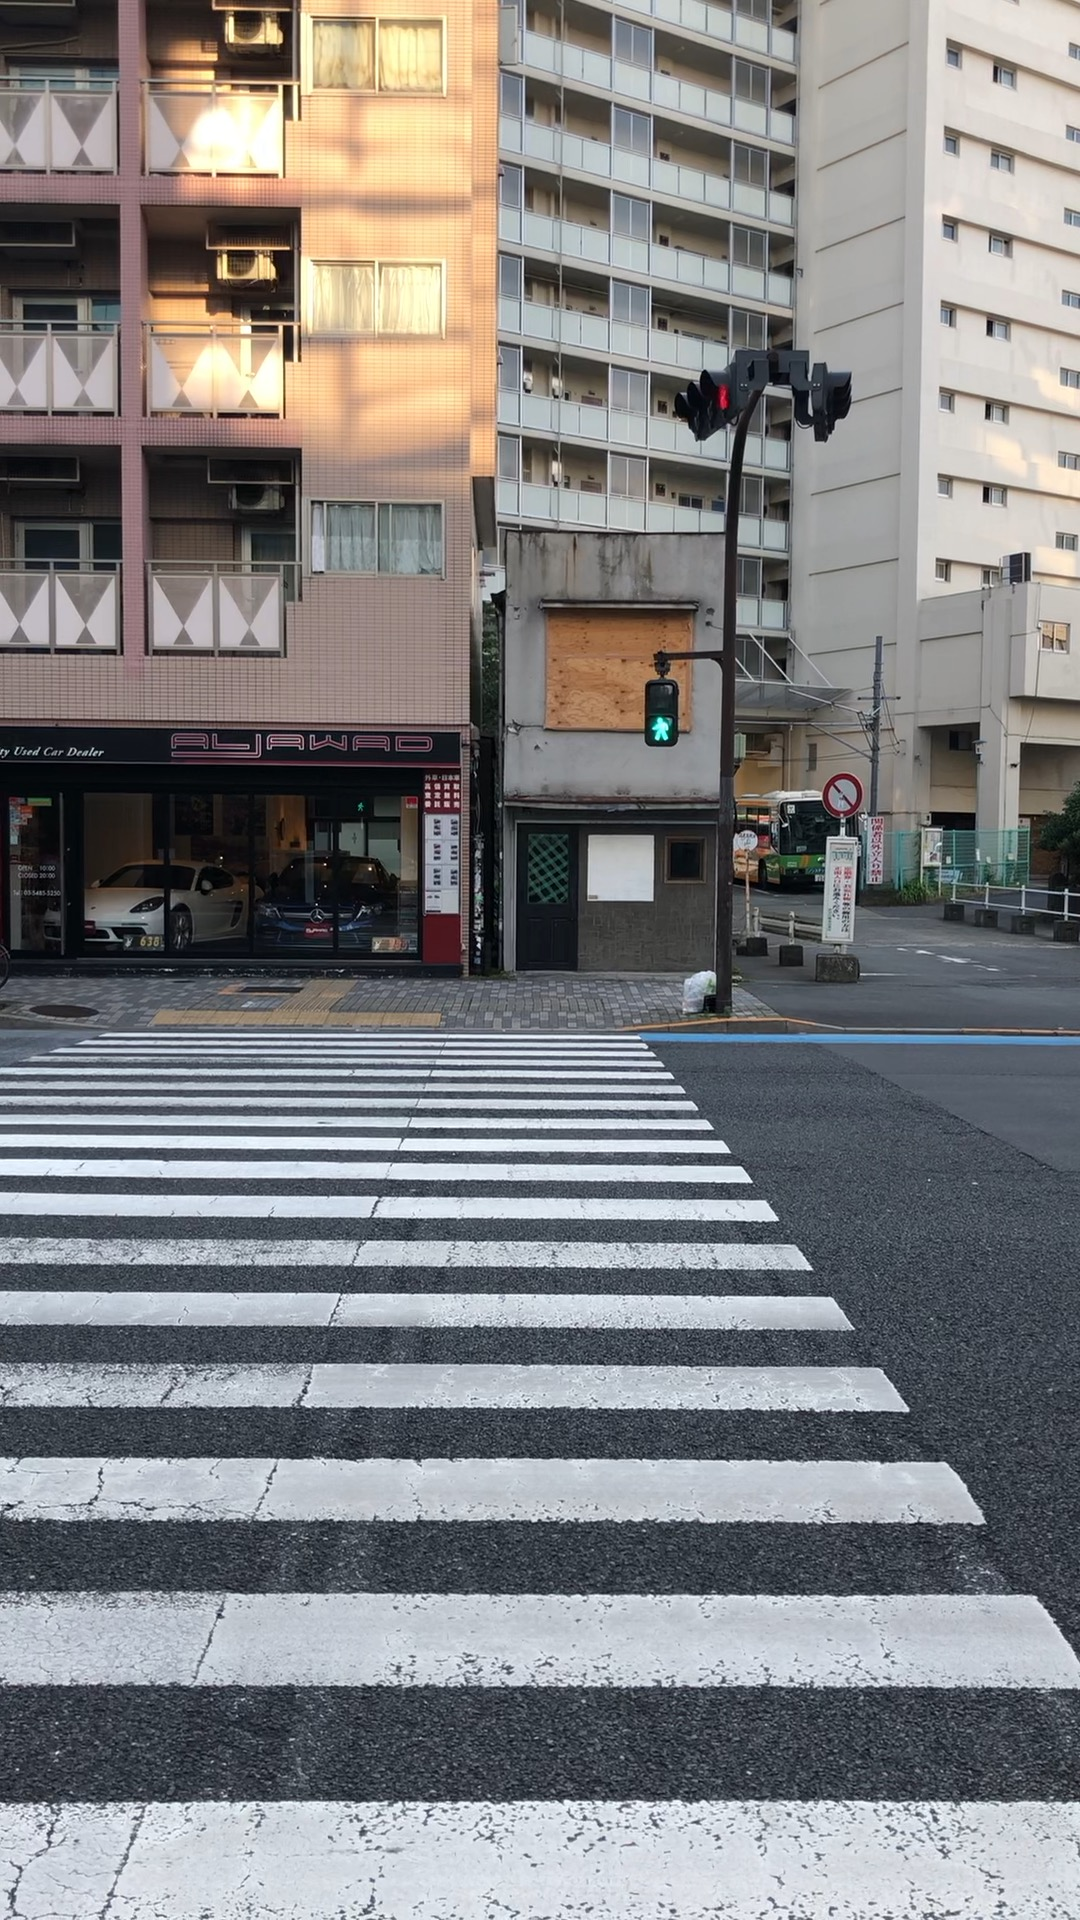green: (645, 680, 678, 746)
